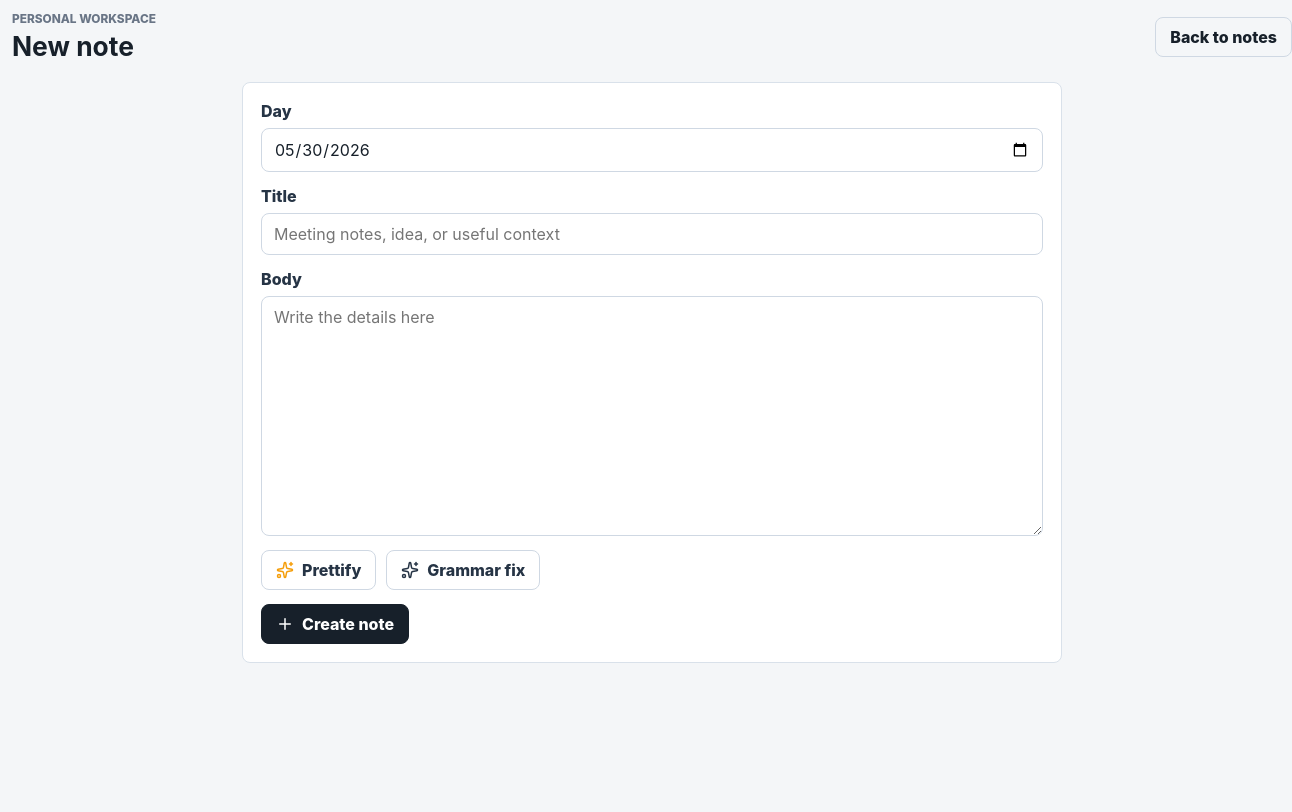
Test: NotesPage › previews and applies a grammar fix on the new note page before create
The image size is (1292, 812).
Type "Draft with grammar" into the field labelled "Title".
click(652, 234); type("Draft with grammar")  # box [261,213,1043,255]
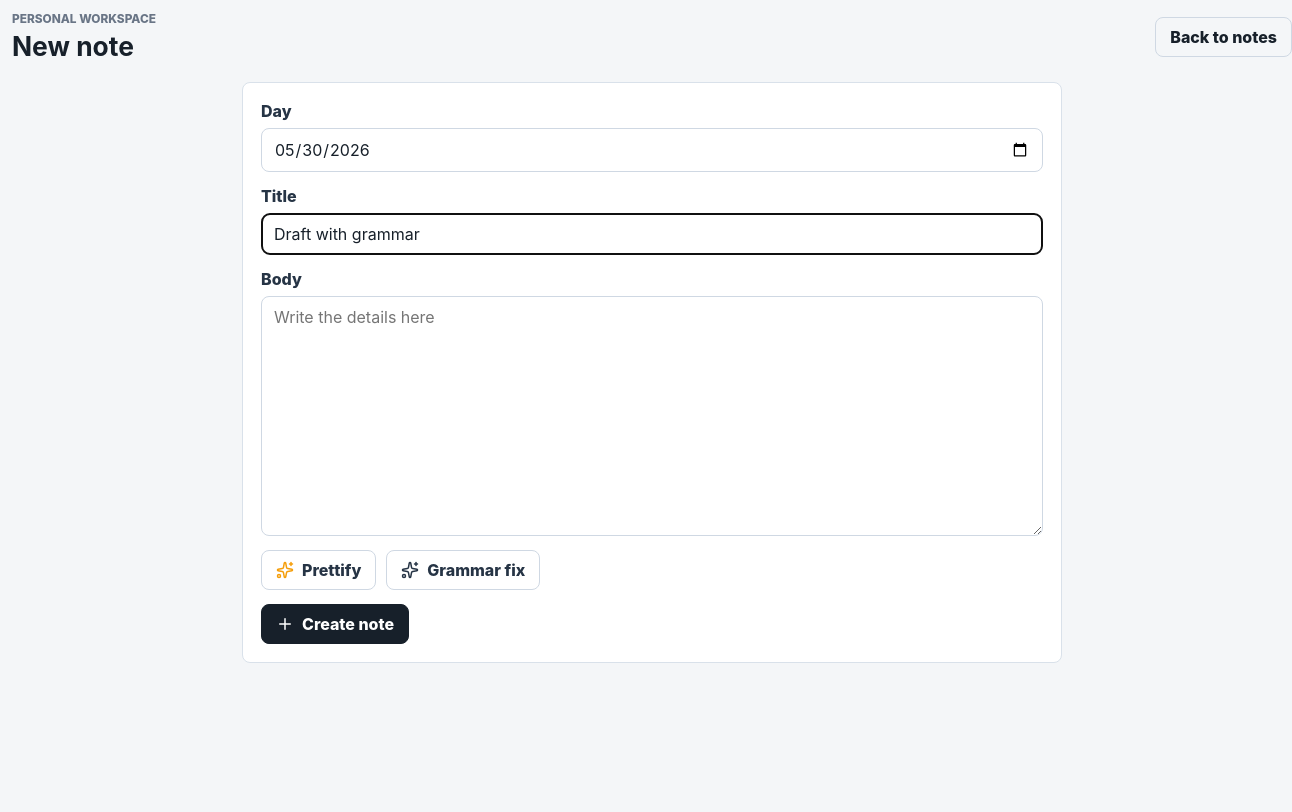
Type "i dont recieve teh update" into the text box labelled "Body".
click(652, 416); type("i dont recieve teh update")  # box [261,296,1043,536]
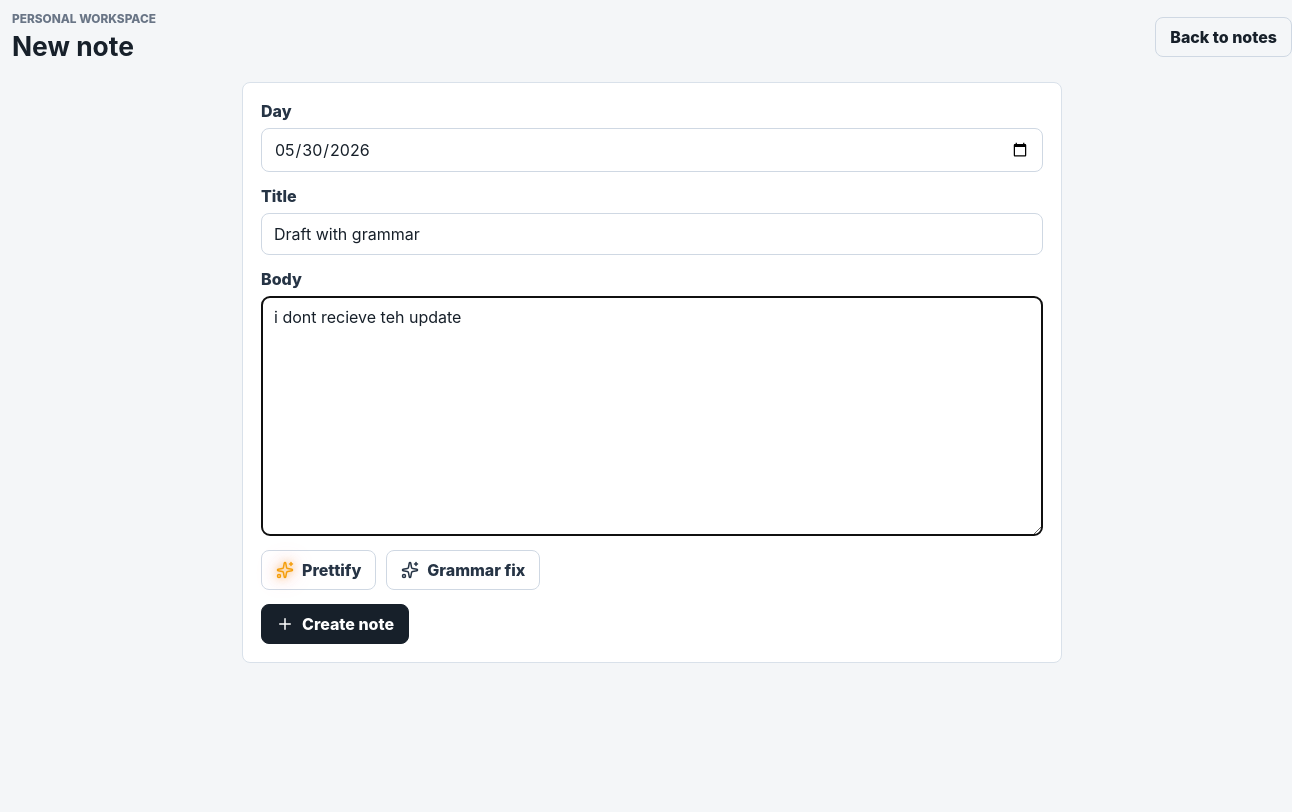
Click the button "Grammar fix".
click(463, 570)  # box [386,550,540,590]
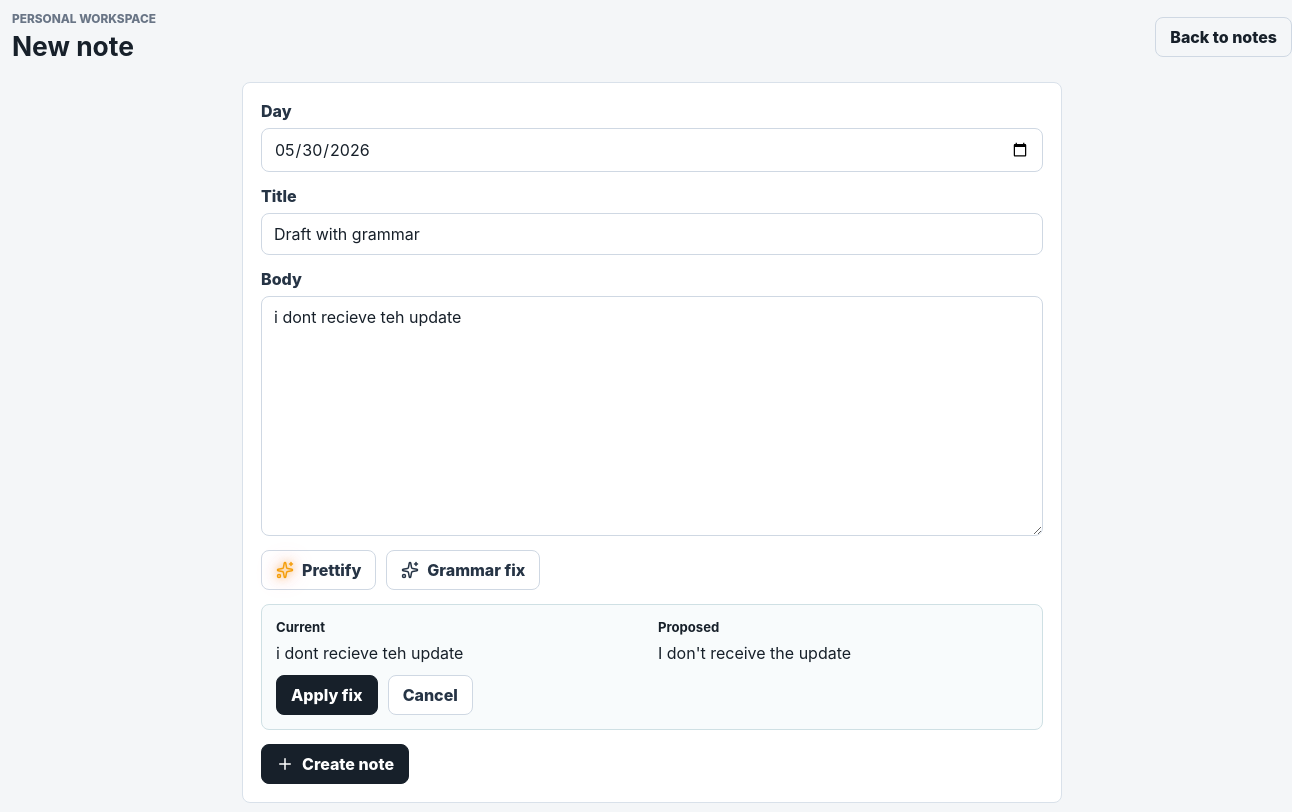
Result: the element named "grammar fix preview" shows "I don't receive the update" at [658,643,851,663]
Click the button "Apply fix".
click(327, 695)  # box [276,675,378,715]
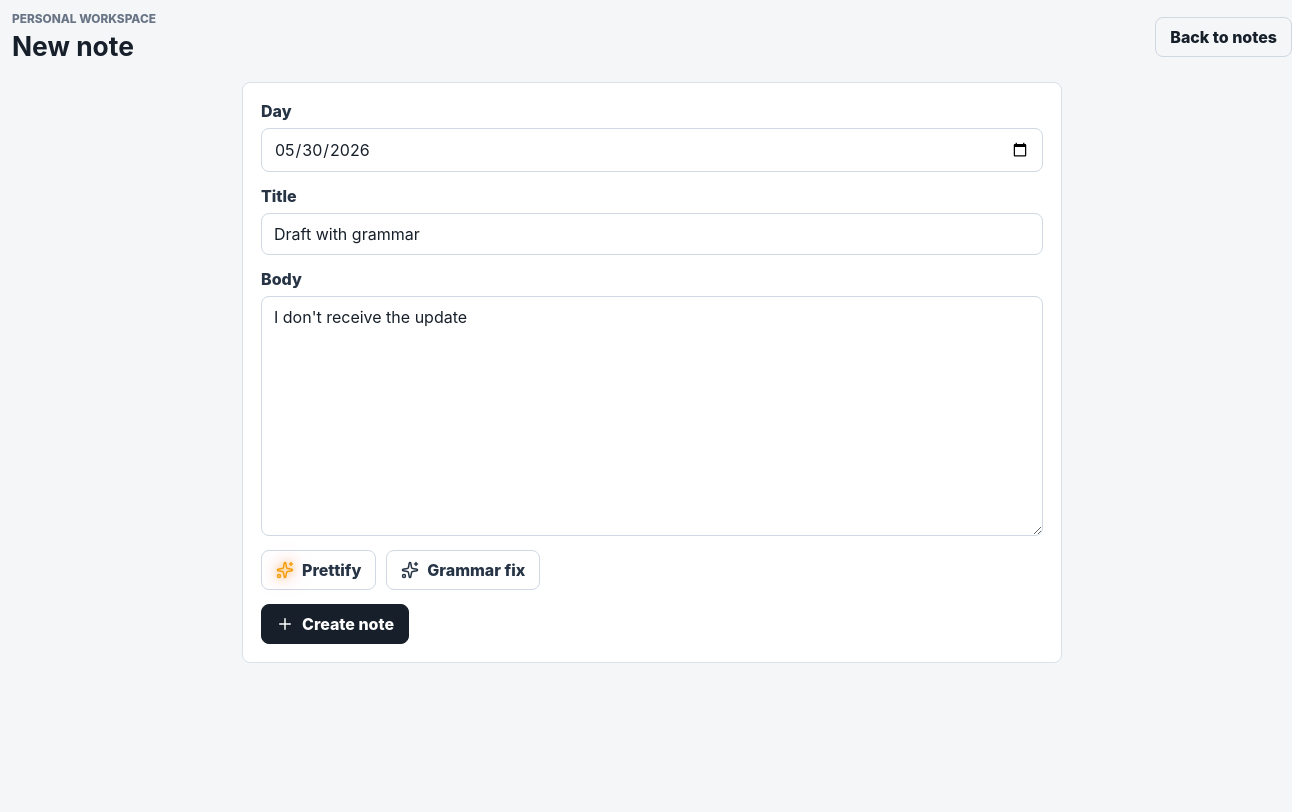
Result: the text box labelled "Body" holds "I don't receive the update" at [261,296,1043,536]
